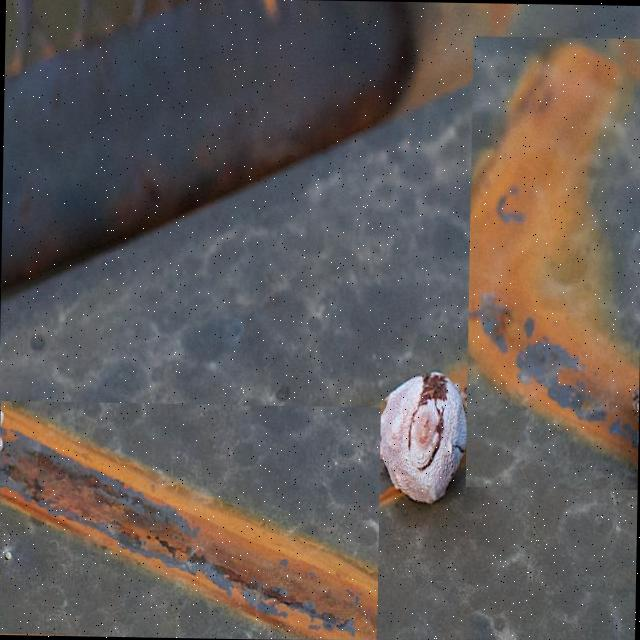Corrosion: (0, 400, 380, 639), (463, 36, 640, 466), (376, 368, 467, 505)
